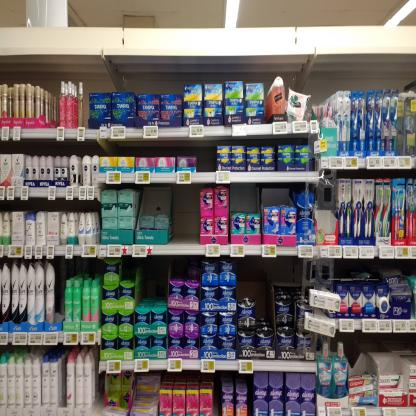Void: (102, 140, 194, 156), (175, 187, 199, 247), (141, 260, 166, 302), (256, 264, 273, 320), (346, 336, 371, 373), (231, 184, 255, 210), (172, 257, 198, 277), (57, 256, 64, 327), (265, 184, 289, 204), (239, 263, 253, 295), (199, 142, 214, 168), (83, 64, 89, 124), (96, 368, 106, 403), (124, 261, 132, 278)
